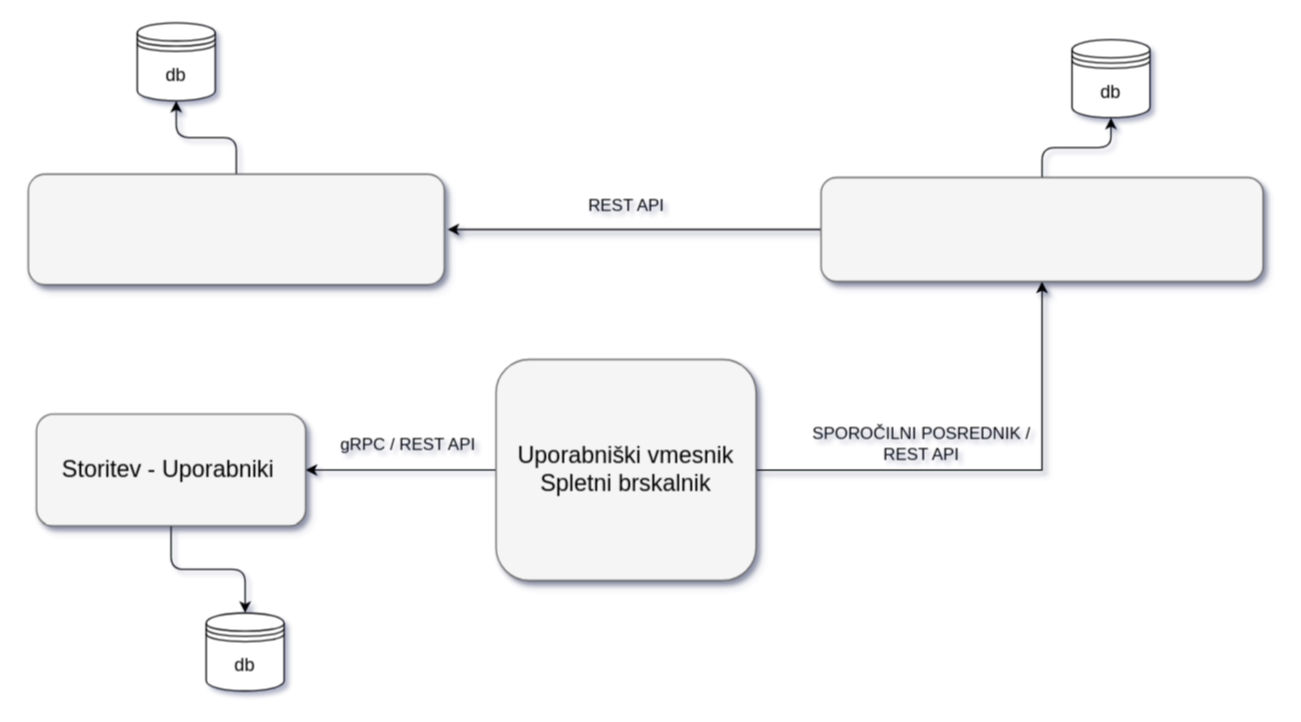
This 1301x722 diagram has some shape labels left out. Here are the shapes that lost their labels. From the top down, the centre of each, then its label:
At point (237, 231): "Storitev - Zaloga a vto delov".
At point (1042, 231): "Storitev - Naročanje avto delov".
